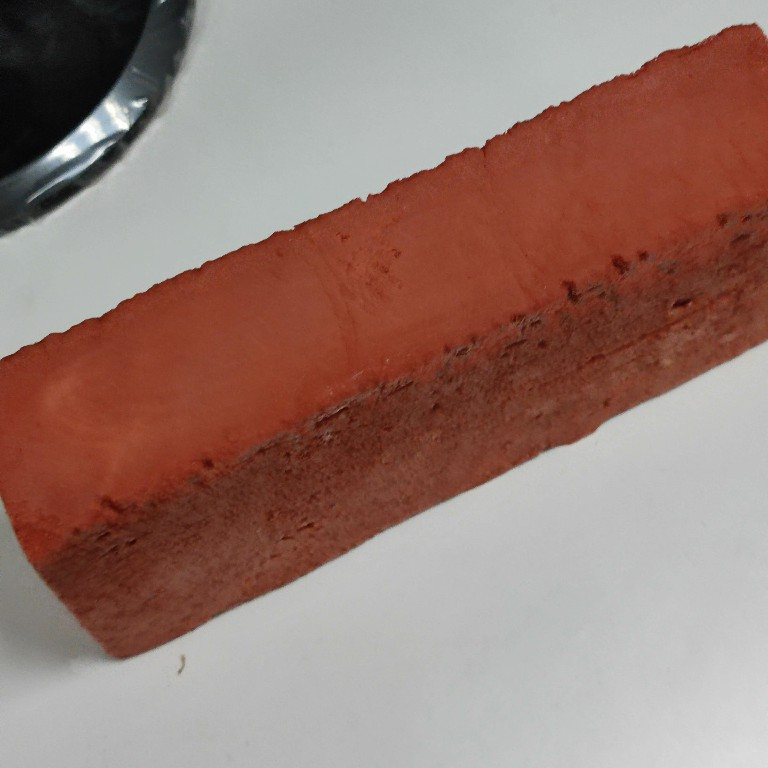brick: (1, 20, 768, 667)
